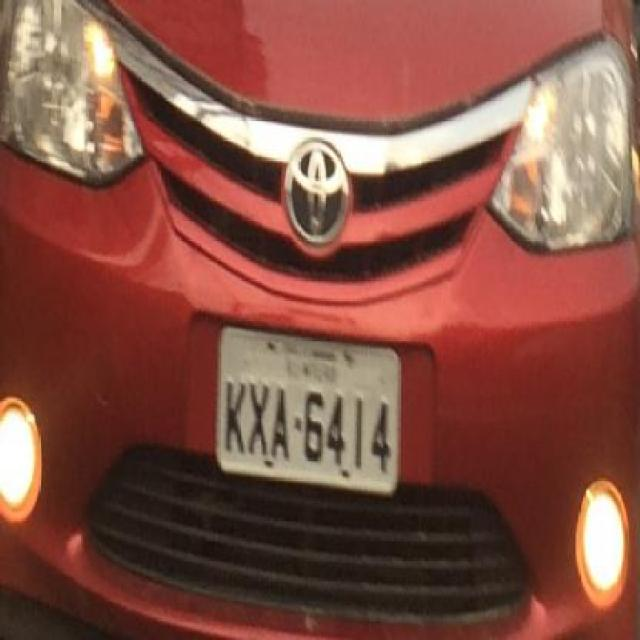old_plate: (208, 315, 408, 503)
